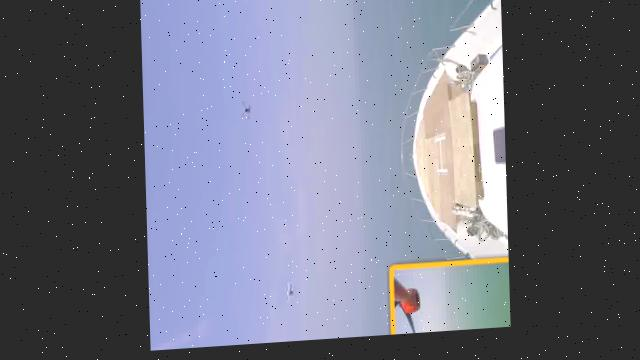drone: (233, 91, 256, 126), (279, 283, 300, 315)
